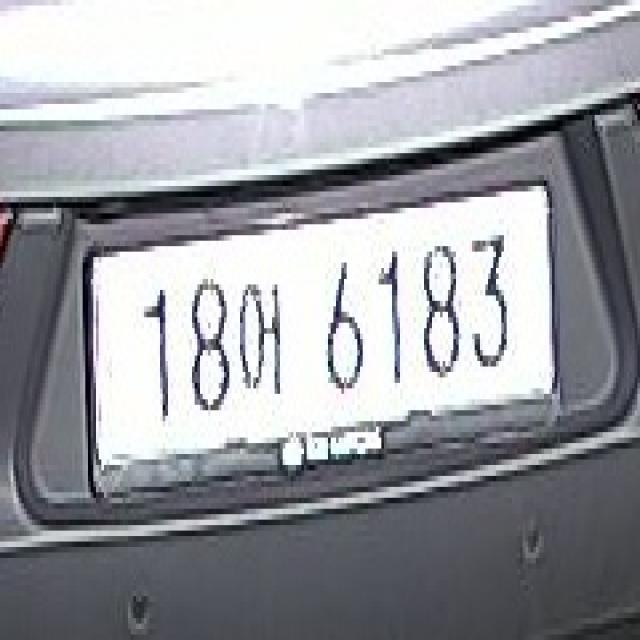1: (138, 279, 178, 443), (370, 236, 410, 400)
3: (467, 219, 517, 383)
6: (320, 246, 368, 410)
8: (184, 268, 235, 438), (413, 230, 464, 394)
eo: (235, 268, 288, 416)
license_plate: (80, 164, 563, 520)
